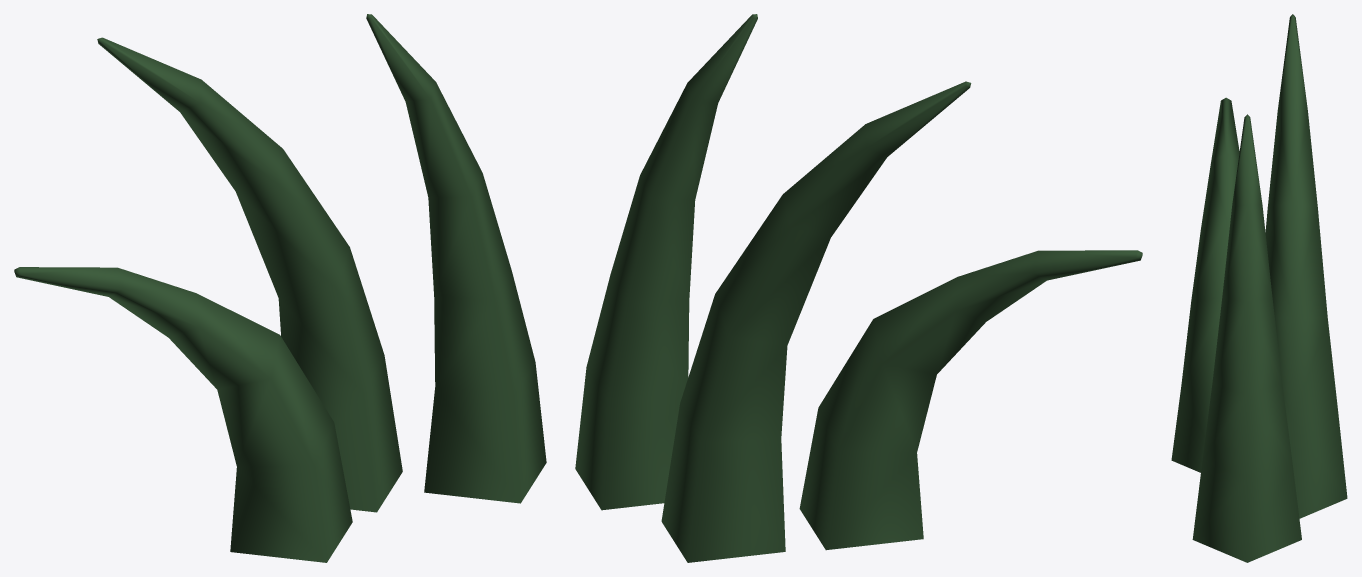
The model's file is batch-2.dae.
3 renders of one model, left to right at view 1: azimuth 30°, elevation 25°; view 2: azimuth 150°, elevation 25°; view 3: azimuth 270°, elevation 25°, orthographic. The views are drawn at different scales.
Parts seen in each view (by area): view 1: GrassBatch_Cylinder_Cylinder.001; view 2: GrassBatch_Cylinder_Cylinder.001; view 3: GrassBatch_Cylinder_Cylinder.001.
Boxes of the visible parts, x1,y1,x2,y2 form: GrassBatch_Cylinder_Cylinder.001: (14,14,546,562); GrassBatch_Cylinder_Cylinder.001: (575,14,1142,562); GrassBatch_Cylinder_Cylinder.001: (1171,14,1347,562).
Bounding box in the file's own units: 0.3566 × 0.1287 × 0.3167.
